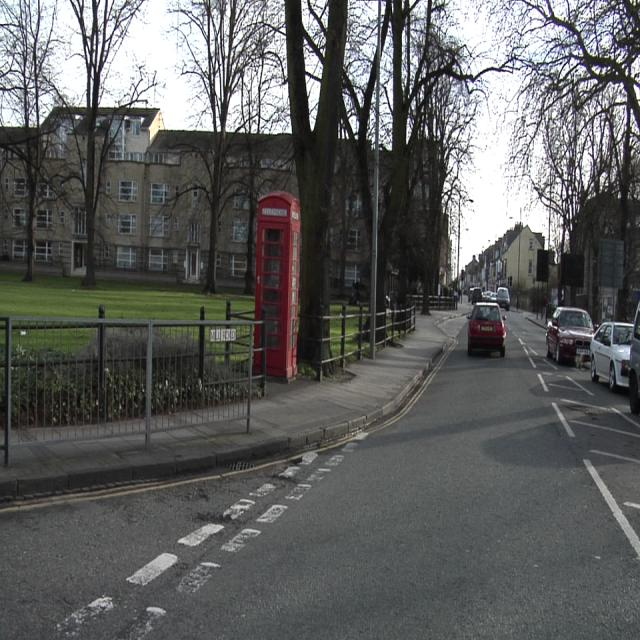Building: (95, 108, 209, 281), (34, 147, 88, 276), (461, 224, 546, 293), (216, 180, 249, 281), (0, 162, 28, 266)
Car: (591, 322, 637, 411), (546, 307, 595, 367), (468, 303, 506, 355), (497, 288, 510, 308)
Road: (8, 312, 639, 638)
Tree: (174, 0, 514, 372), (1, 3, 162, 270), (69, 0, 144, 279)
